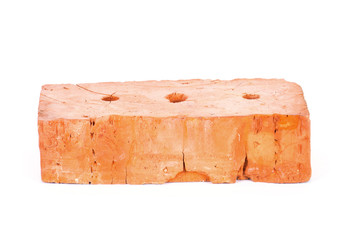brick: (40, 84, 310, 180)
